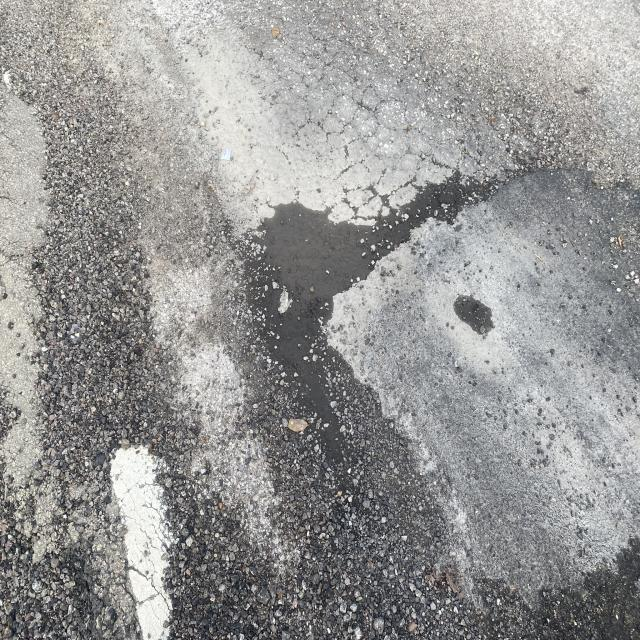pothole: (321, 164, 560, 263)
